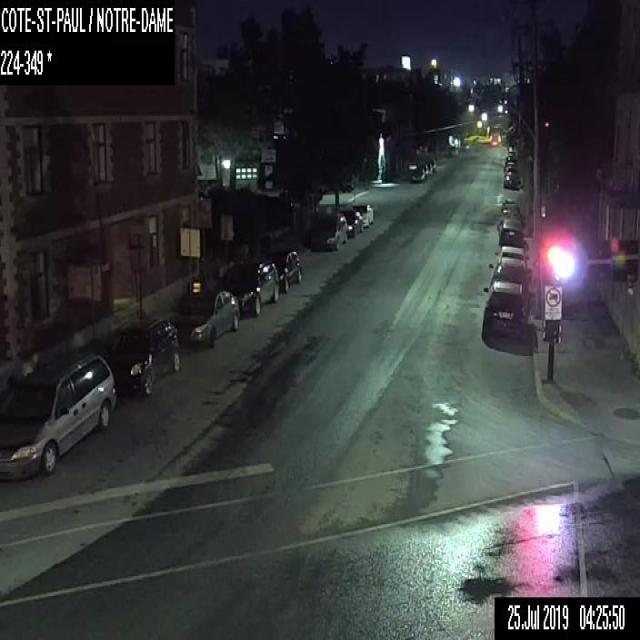vehicle: (0, 352, 115, 473), (101, 319, 180, 395), (174, 290, 239, 346), (480, 280, 534, 344), (218, 259, 278, 315), (263, 249, 302, 292), (488, 255, 531, 292), (310, 211, 347, 252), (493, 245, 529, 269), (498, 217, 523, 245), (339, 209, 362, 235), (350, 203, 372, 226), (500, 198, 520, 215), (407, 165, 424, 182), (503, 171, 517, 187), (422, 163, 428, 177), (426, 162, 432, 174), (429, 158, 435, 170), (504, 161, 514, 168)
